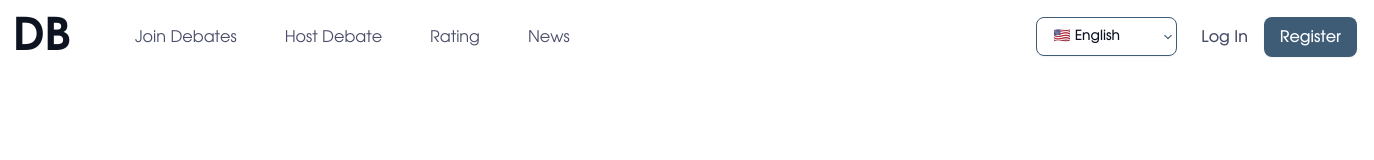
Scenario: Header auth links › switches the shared navigation to Russian
Select "🇷🇺 Русский" in the dropdown named "Language" at point(1107, 37), box [1036, 17, 1177, 56]
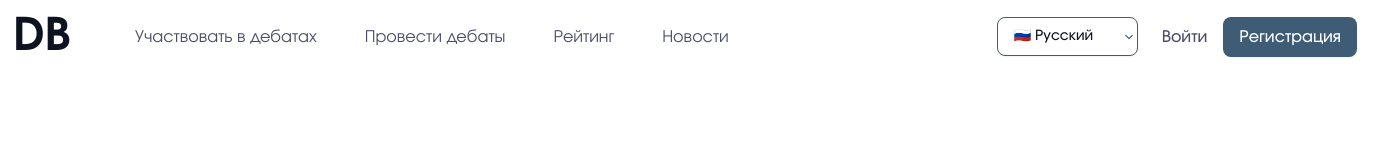
expect the link "Участвовать в дебатах" is shown: met, box [135, 25, 317, 49]
expect the link "Войти" is shown: met, box [1162, 25, 1207, 49]
